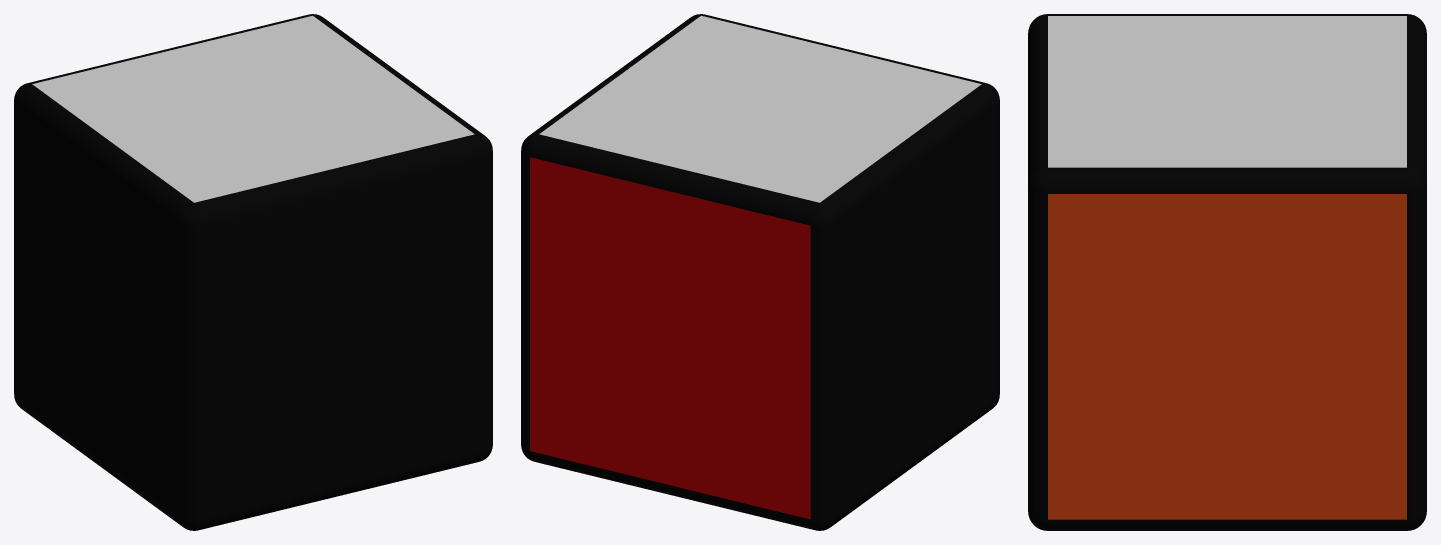
The model's file is alpha3.obj.
3 renders of one model, left to right at view 1: azimuth 30°, elevation 25°; view 2: azimuth 150°, elevation 25°; view 3: azimuth 270°, elevation 25°, orthographic. The views are drawn at different scales.
Visible parts, largest first — view 1: Cube.007; view 2: Cube.007; view 3: Cube.007.
Boxes of the visible parts, x1=… form: Cube.007: x1=14, y1=14, x2=492, y2=530; Cube.007: x1=521, y1=14, x2=999, y2=530; Cube.007: x1=1028, y1=14, x2=1426, y2=530.
Size of the model in its own units: 4.28 by 4.28 by 4.28.
